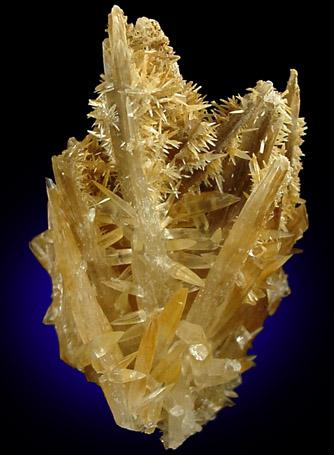calcite: (30, 6, 309, 450)
